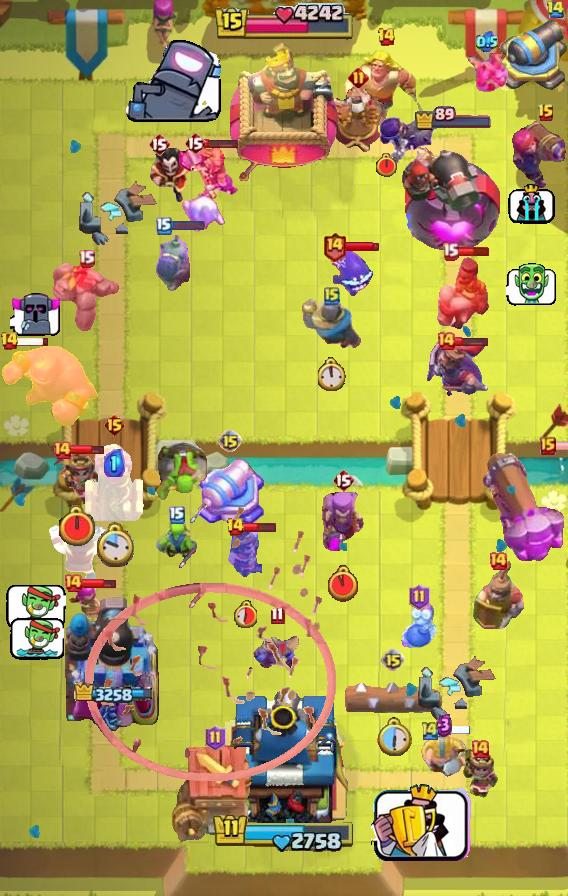archer: (67, 579, 109, 623)
bar: (81, 577, 117, 590), (69, 443, 105, 456), (344, 241, 380, 253), (242, 521, 277, 533), (454, 335, 489, 347), (13, 336, 50, 347), (170, 220, 206, 231), (204, 138, 239, 149), (456, 246, 490, 257), (438, 725, 471, 735), (553, 441, 568, 451)
bar-level: (322, 231, 347, 262), (381, 648, 405, 672), (218, 429, 242, 453), (103, 413, 126, 437), (205, 725, 226, 751), (409, 584, 430, 610), (332, 468, 354, 492), (148, 132, 170, 156), (184, 131, 206, 155), (348, 67, 369, 88), (420, 720, 440, 741), (470, 739, 490, 759), (63, 573, 83, 593), (488, 551, 508, 571), (52, 440, 72, 460), (436, 331, 456, 351), (226, 517, 245, 537), (0, 331, 19, 351), (377, 27, 396, 47), (546, 0, 565, 19), (537, 103, 555, 123), (78, 249, 95, 268), (442, 242, 459, 261), (324, 286, 340, 306), (169, 506, 185, 524), (540, 437, 556, 455), (156, 217, 172, 235), (270, 606, 285, 625)
bomber: (399, 601, 439, 649)
bomber-evolution: (377, 107, 437, 165), (155, 226, 193, 294)
cannoneer-tower: (65, 593, 163, 731), (402, 136, 504, 256)
clock: (95, 522, 134, 569), (57, 505, 97, 548), (375, 717, 412, 757), (328, 565, 358, 602), (318, 357, 347, 391), (233, 600, 257, 628), (375, 153, 398, 178)
electro-spirit: (331, 251, 373, 297)
electro-wizard: (45, 524, 115, 584), (147, 146, 203, 204)
elite-barbarian: (420, 734, 468, 777)
elixir: (104, 449, 125, 477), (476, 31, 498, 53), (435, 713, 453, 737)
emote: (122, 40, 221, 126), (371, 784, 474, 864), (6, 582, 66, 630), (9, 617, 64, 662), (10, 291, 62, 337), (506, 263, 557, 306), (508, 181, 555, 224)
firecracker-evolution: (510, 113, 568, 191)
goblin: (155, 518, 199, 560)
goblin-ball: (154, 441, 208, 503)
golemite: (50, 261, 122, 333)
ice-spirit-evolution: (179, 194, 229, 232)
king-tower: (214, 684, 354, 826), (230, 43, 338, 181)
king-tower-bar: (212, 812, 356, 854), (213, 3, 355, 43)
knight: (300, 295, 364, 351)
little-prince: (50, 450, 104, 504), (458, 749, 502, 801), (228, 529, 262, 579)
minion: (464, 49, 510, 95), (252, 630, 302, 672)
mother-witch: (320, 487, 366, 555)
ram-rider: (432, 256, 492, 330)
royal-recruit: (471, 561, 525, 631)
tesla: (83, 442, 145, 526)
the-log: (343, 677, 443, 719)
tower-bar: (414, 106, 493, 131), (74, 682, 155, 706)
valkyrie-evolution: (176, 142, 240, 204)
